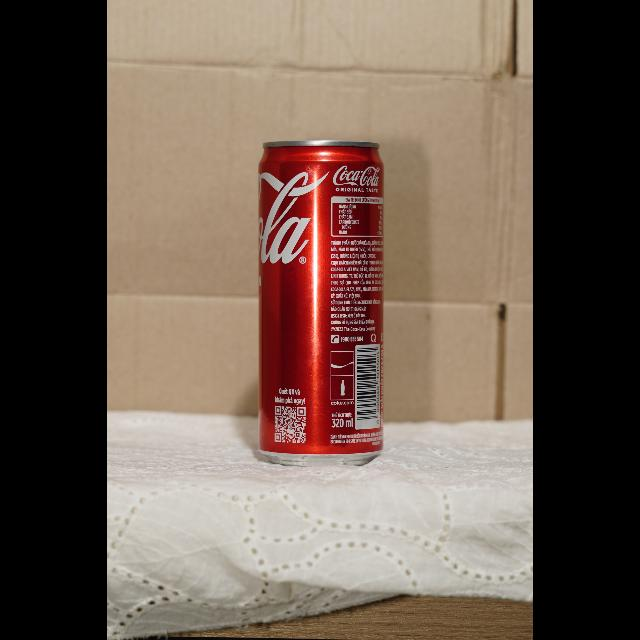coca_cola: (256, 140, 386, 467)
